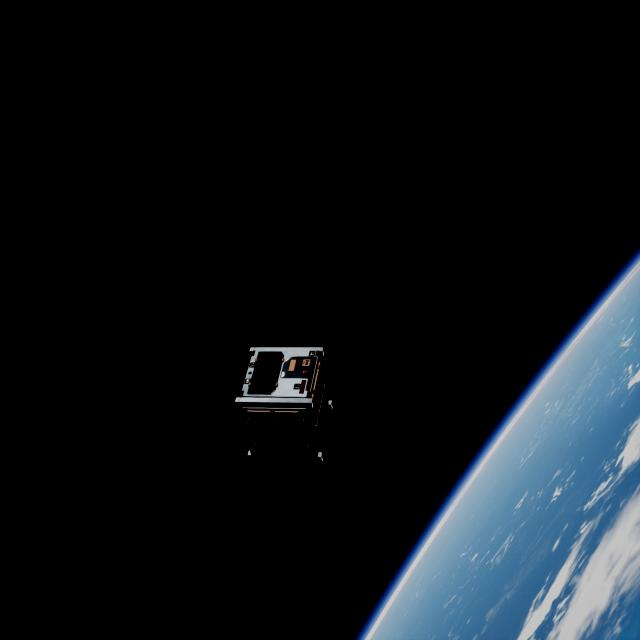medium_debris: (228, 338, 337, 480)
